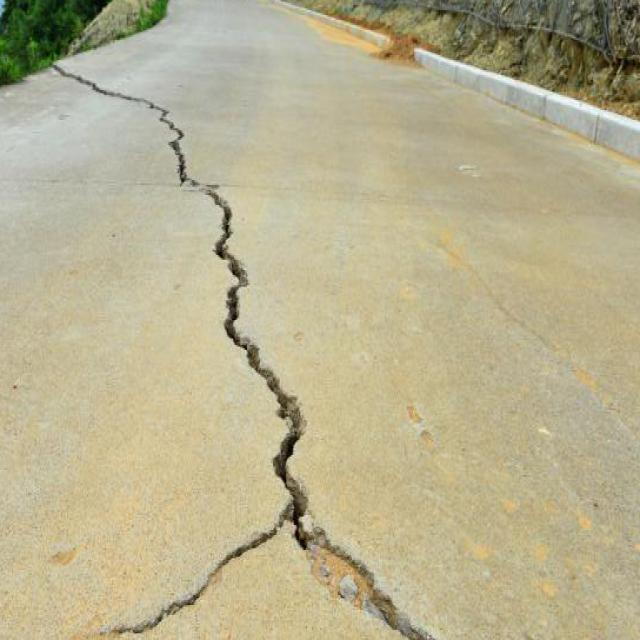crack: (51, 61, 239, 253), (100, 513, 316, 636), (215, 251, 316, 512)
spall: (300, 524, 428, 638)
